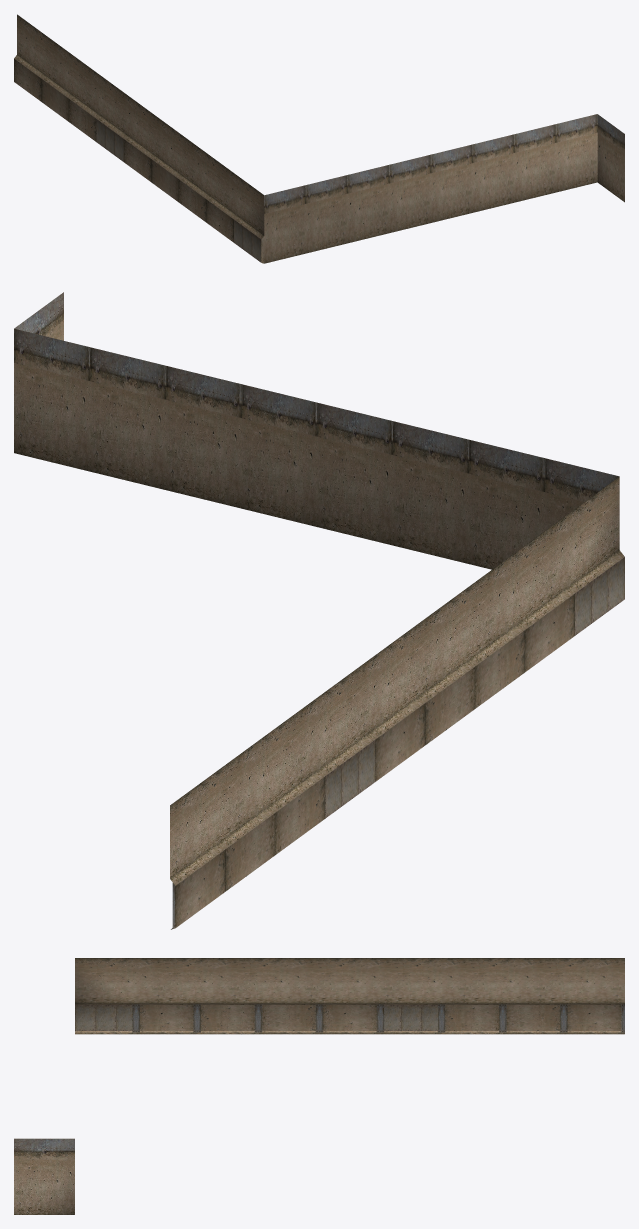
Rendered from M11Z2_InnerWalls4.glb.
3 views of the same model, one above another, from view 1: azimuth 30°, elevation 25°; view 2: azimuth 150°, elevation 25°; view 3: azimuth 270°, elevation 25° (orthographic). The views are drawn at different scales.
Parts seen in each view (by area): view 1: M11Z2_INNERWALLS4; view 2: M11Z2_INNERWALLS4; view 3: M11Z2_INNERWALLS4.
Part boxes in pixels (<box>): M11Z2_INNERWALLS4: <box>14,14,624,263</box>; M11Z2_INNERWALLS4: <box>14,292,624,929</box>; M11Z2_INNERWALLS4: <box>14,958,624,1214</box>.
Size of the model in its own units: 56.5 by 11 by 80.01.
Materials: 4 (4 with a texture image).
